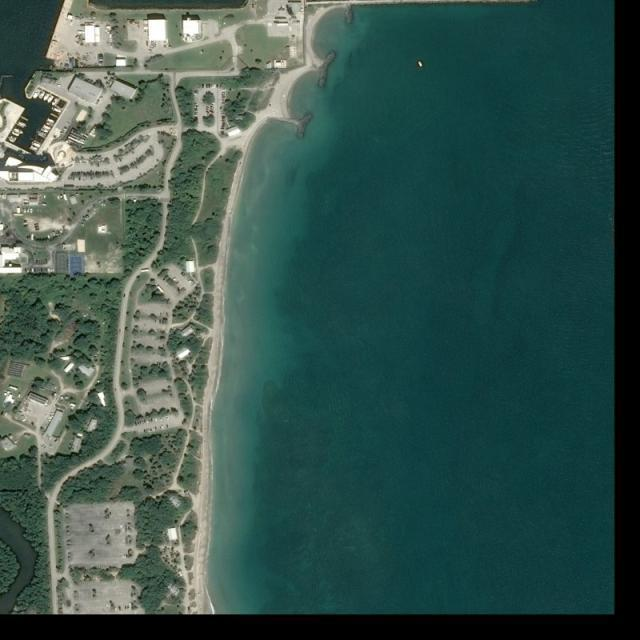ship: (418, 61, 422, 67)
